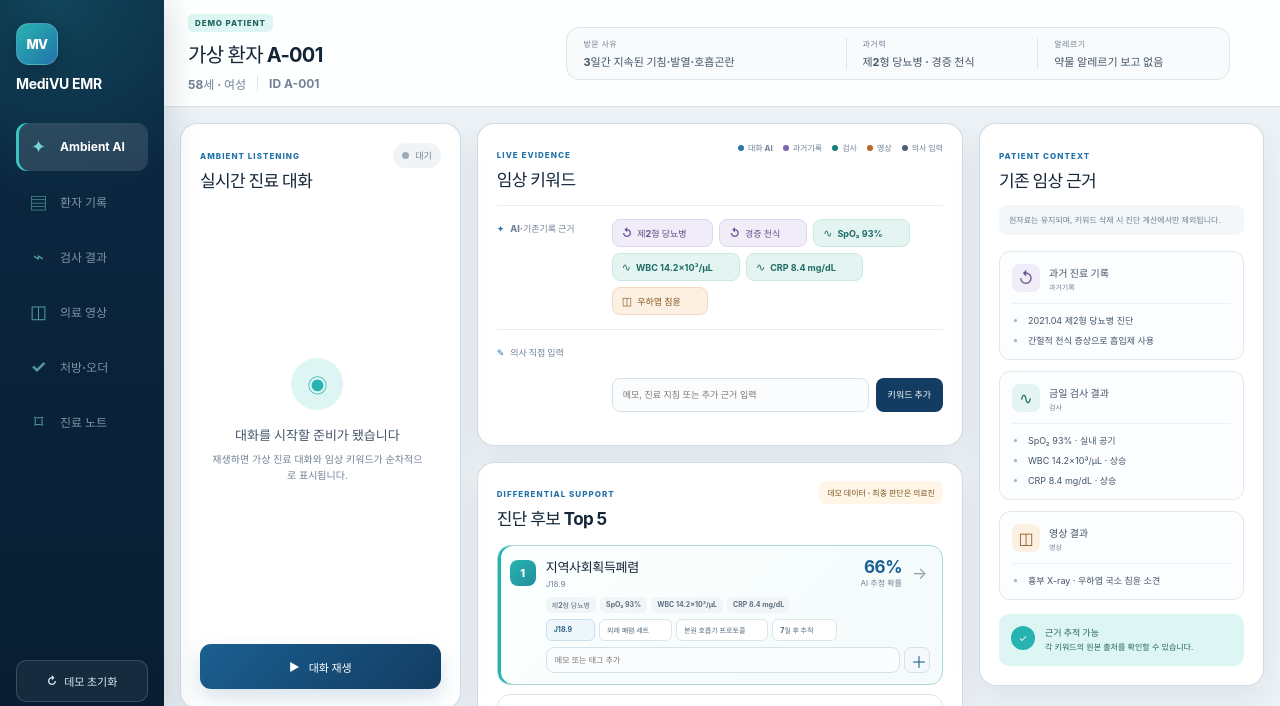
Test: App order flow › edits order content and confirms an in-memory save
Click the button with aria-label "지역사회획득폐렴 오더 열기".
click(592, 567)  # box [546,557,930,589]
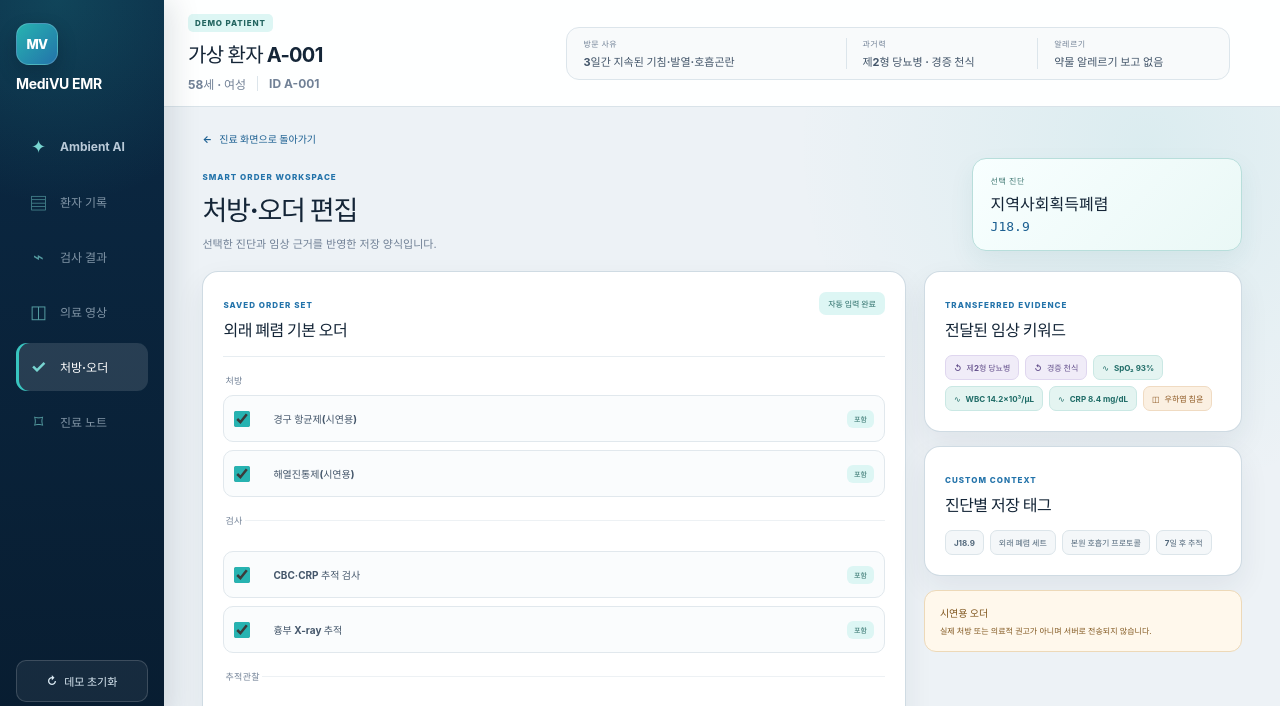
Click the checkbox named "CBC·CRP 추적 검사".
click(242, 574)  # box [234,566,250,582]
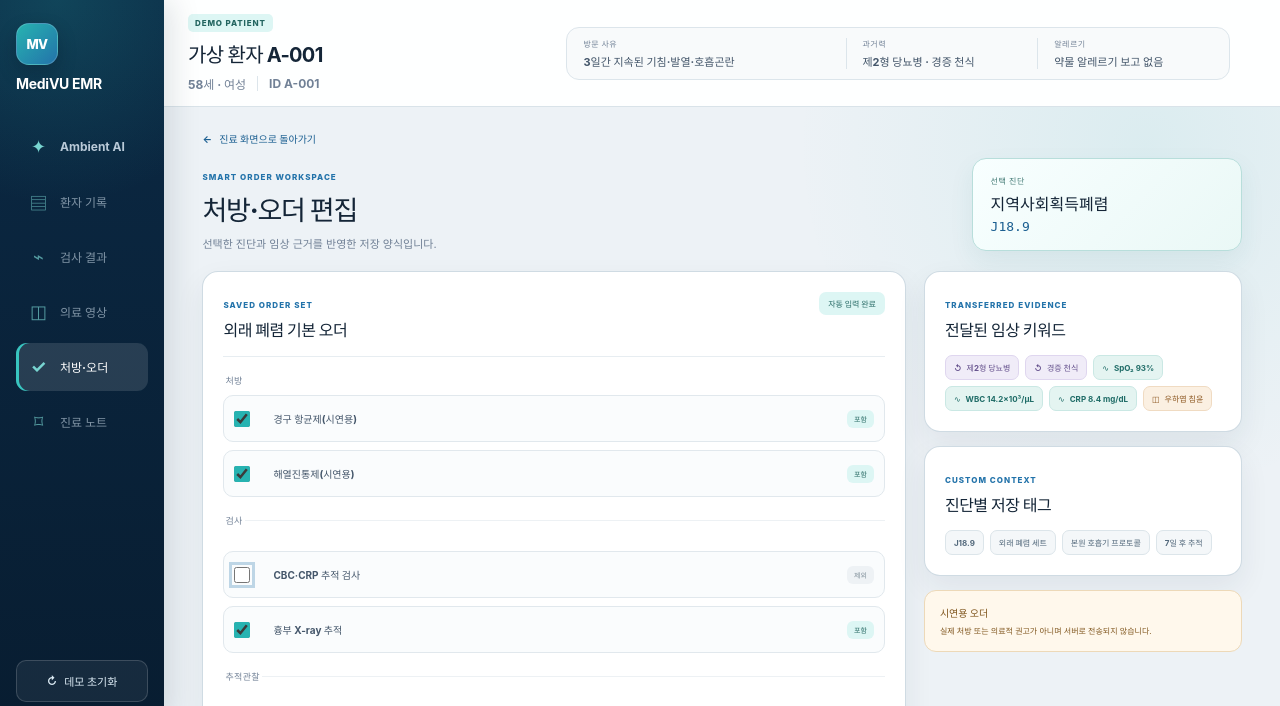
Check: the checkbox named "CBC·CRP 추적 검사" is not checked, box [234,566,250,582]
Replace the text in the field named "CBC·CRP 추적 검사 항목명" next to "제외" with "CBC 추적 검사" at (551, 574), box [264,559,837,590]
(page scrolled)
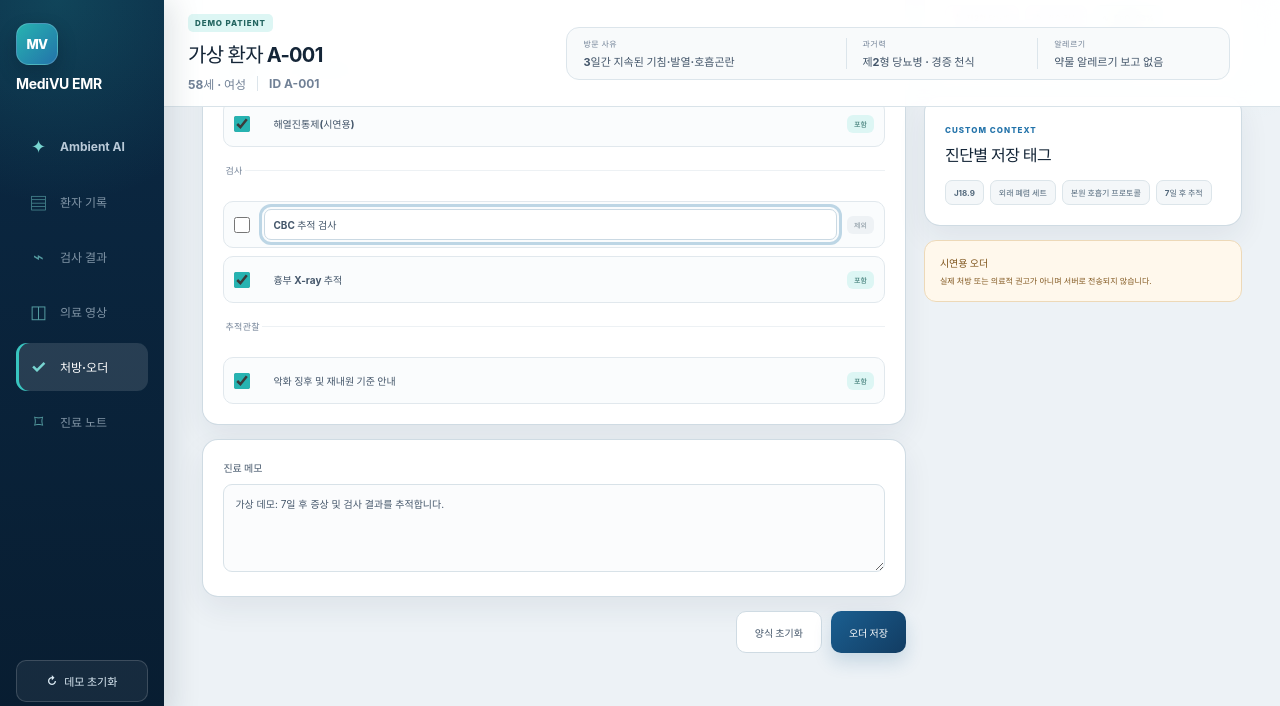
Replace the text in the text box labelled "진료 메모" with "가상 추적 메모" at (554, 528), box [223,484,885,572]
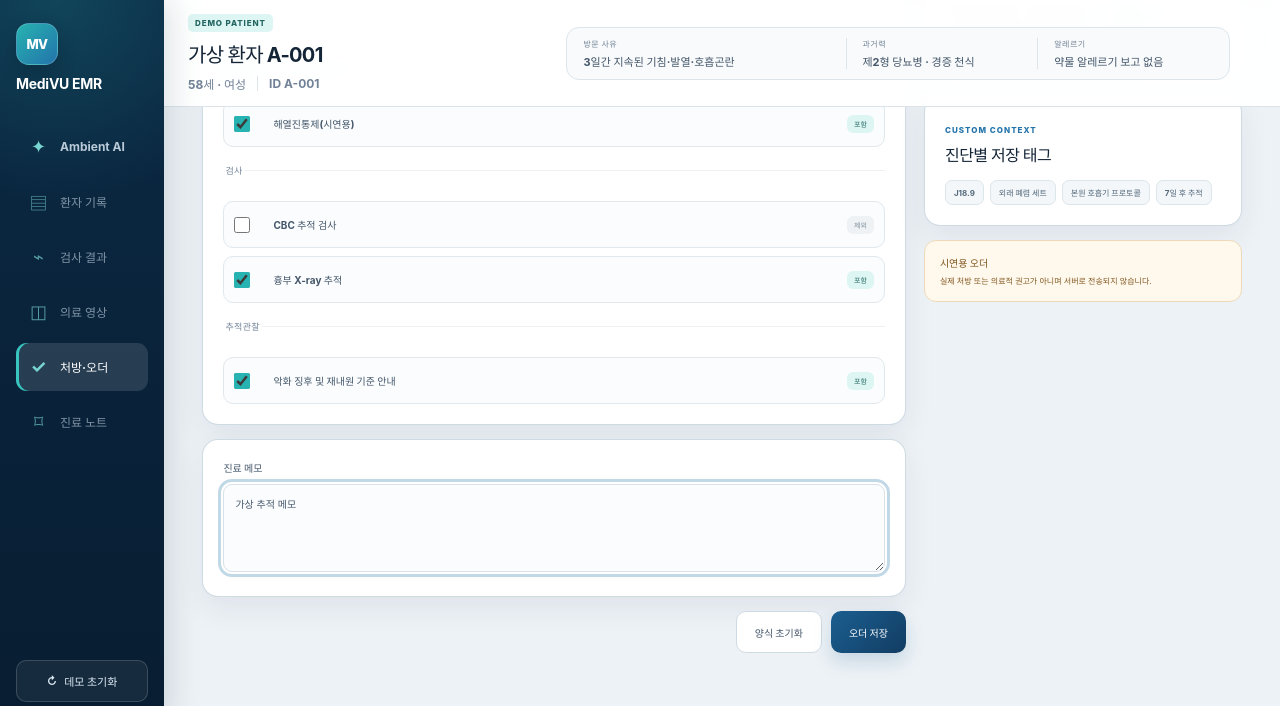
Click the button "오더 저장".
click(868, 632)  # box [831,611,906,653]
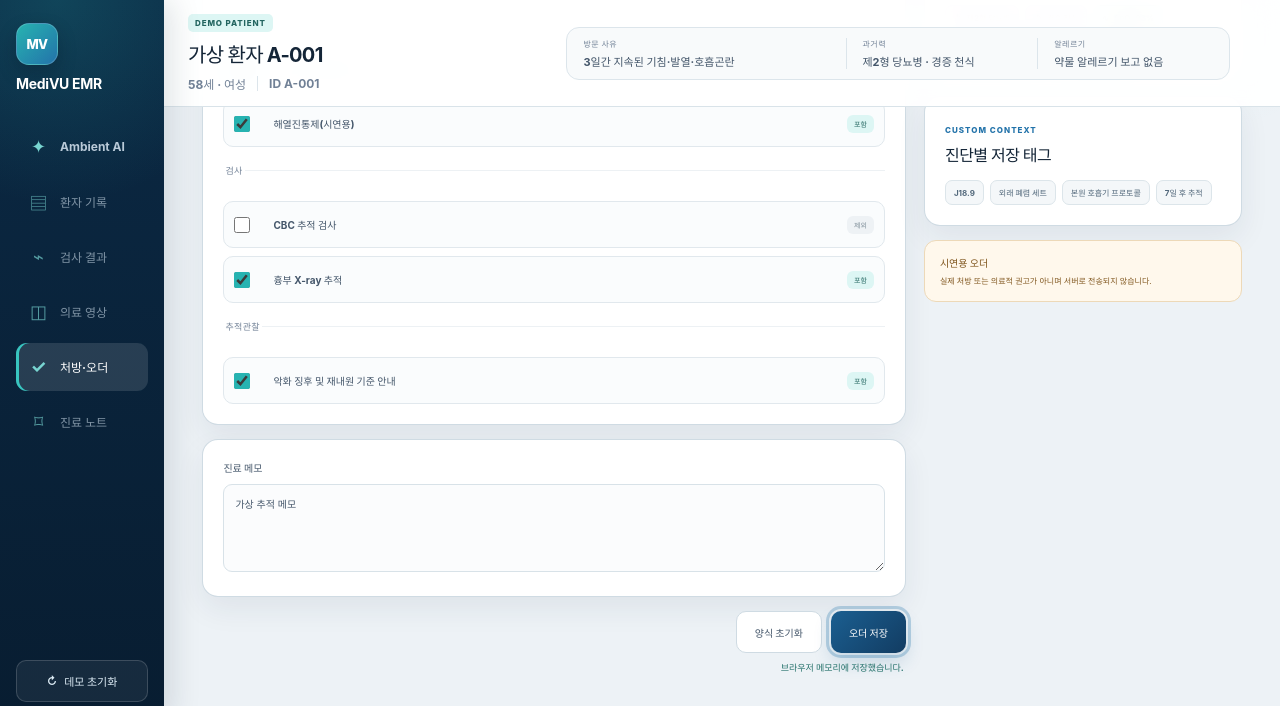
Check: the message reads "브라우저 메모리에 저장했습니다.", box [781,662,904,673]
